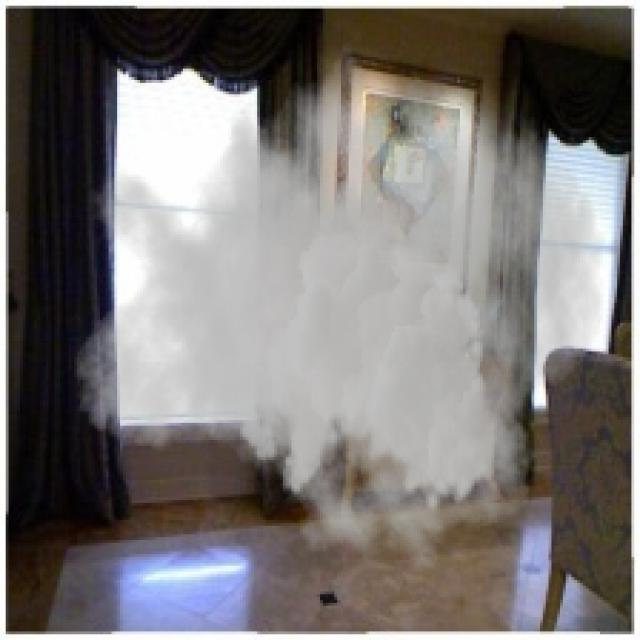Smoke: (71, 19, 606, 574)
